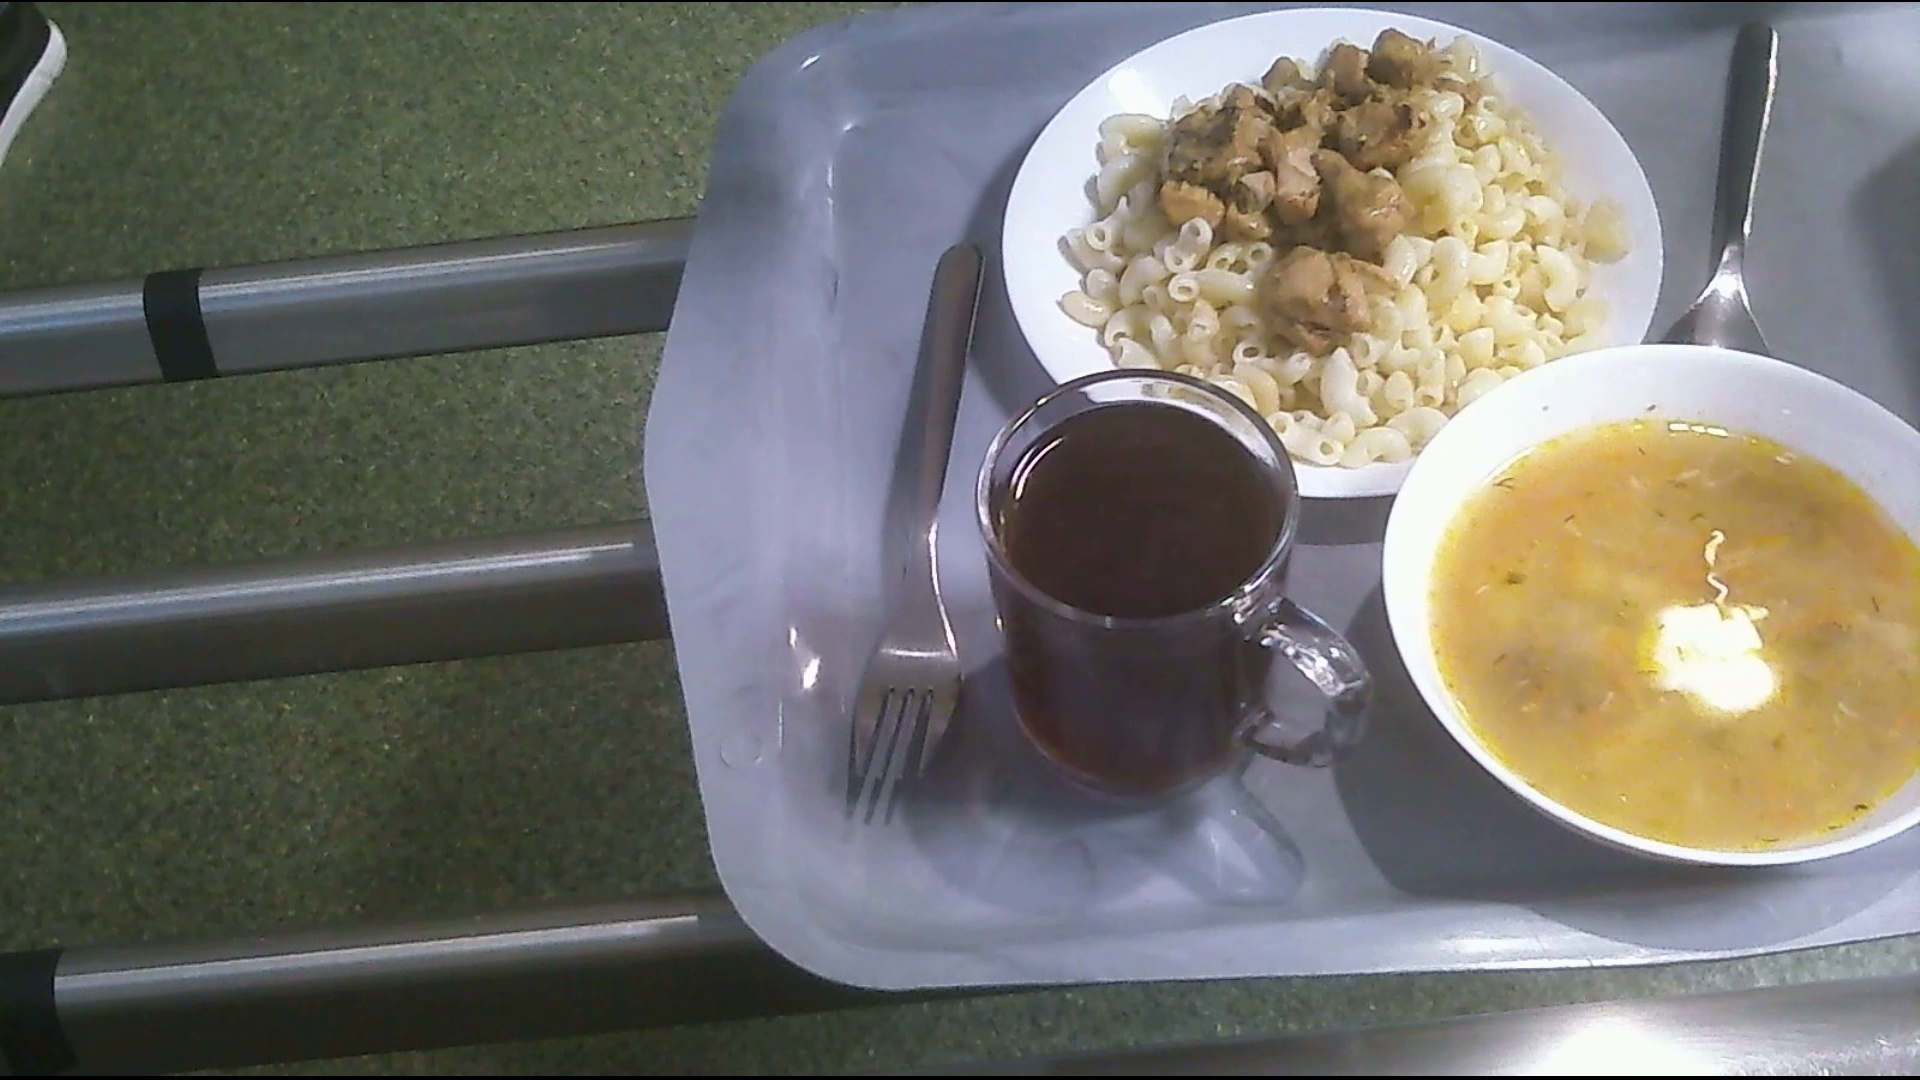bowl: (1398, 340, 1920, 866)
cutlery: (845, 240, 986, 815), (1665, 25, 1818, 375)
drink: (975, 367, 1304, 796)
plate: (978, 7, 1667, 502)
